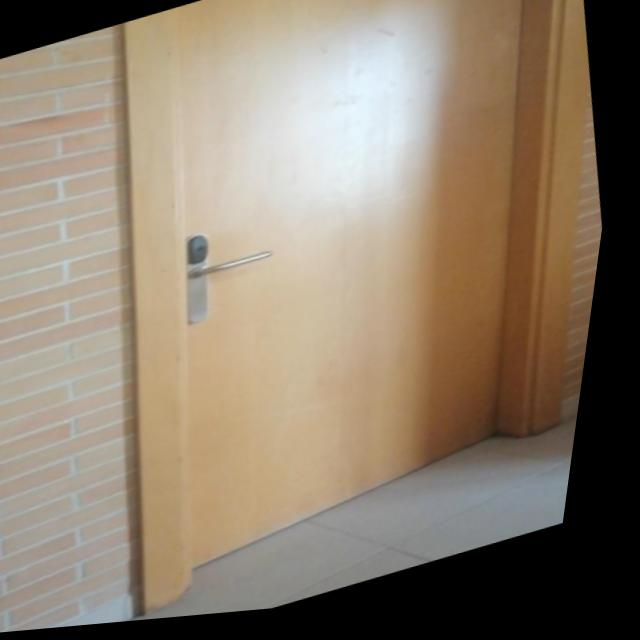door_handle: (188, 248, 288, 289)
